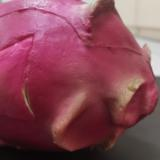pitaya: (1, 1, 160, 153)
